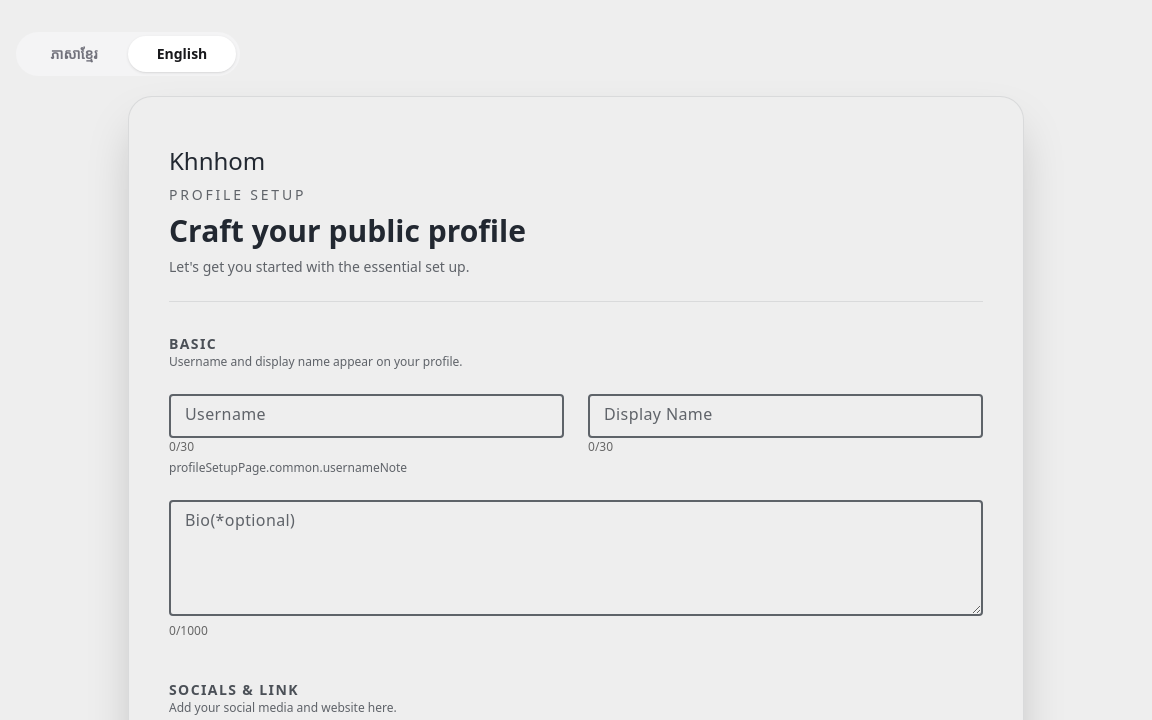
Test: ProfileForm › shows validation error for username with invalid characters
Type "test-user!" into the field labelled "Username" at (366, 416), box [169,394,564,438]
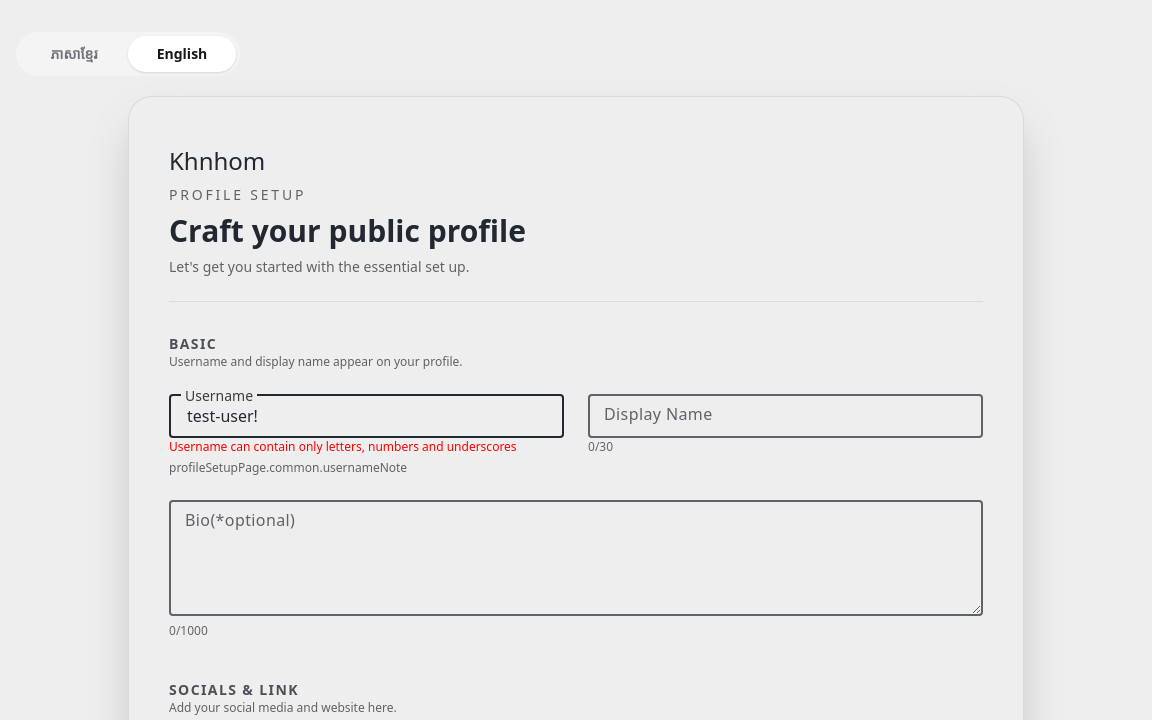
Expected: the text "Username can contain only letters, numbers and underscores" is shown, [169,438,517,455]
